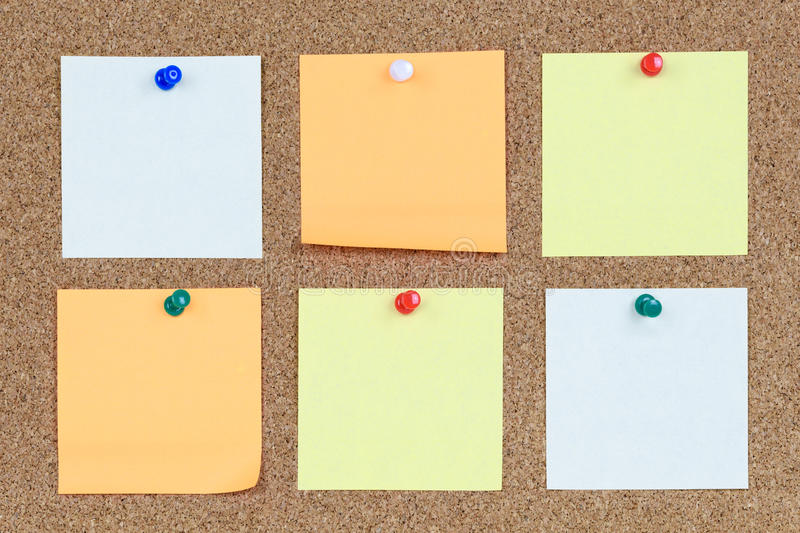blue_sticky_note: (58, 53, 264, 261), (543, 288, 750, 491)
green_sticky_note: (540, 53, 749, 258), (295, 287, 505, 491)
orange_sticky_note: (54, 288, 262, 495), (297, 51, 507, 253)
